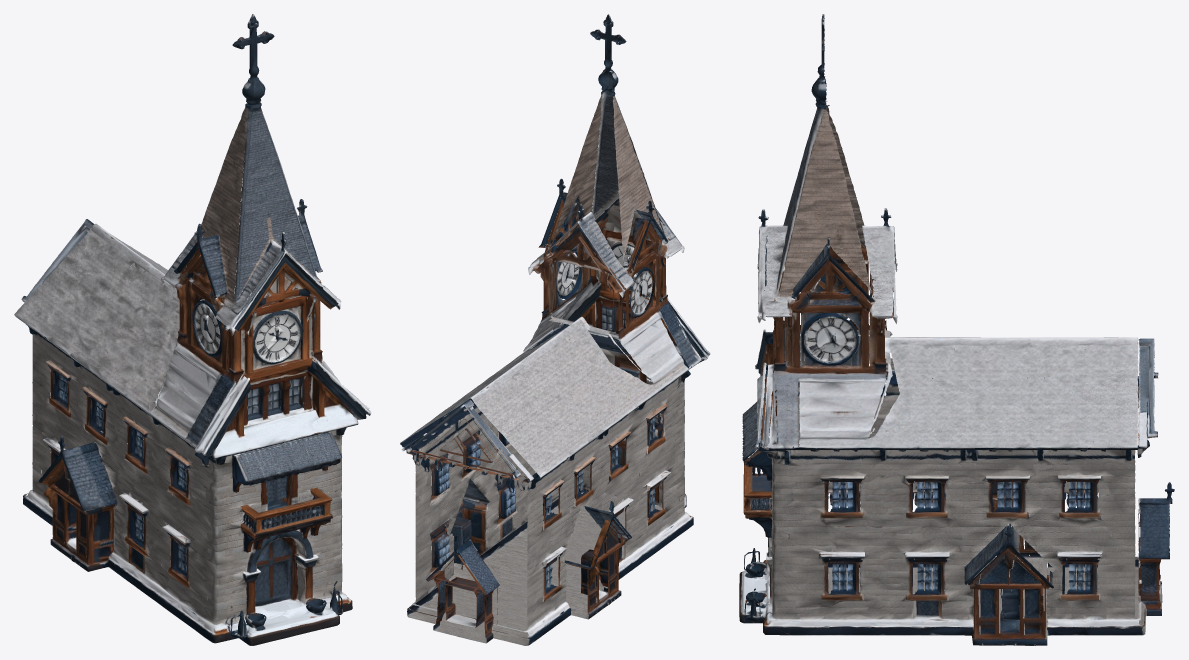
Rendered from alpine_tower.glb.
3 renders of one model, left to right at view 1: azimuth 30°, elevation 25°; view 2: azimuth 150°, elevation 25°; view 3: azimuth 270°, elevation 25°, orthographic. The views are drawn at different scales.
Bounding box in the file's own units: 0.6711 × 1.9 × 1.28.
1 material, 1 textured.
